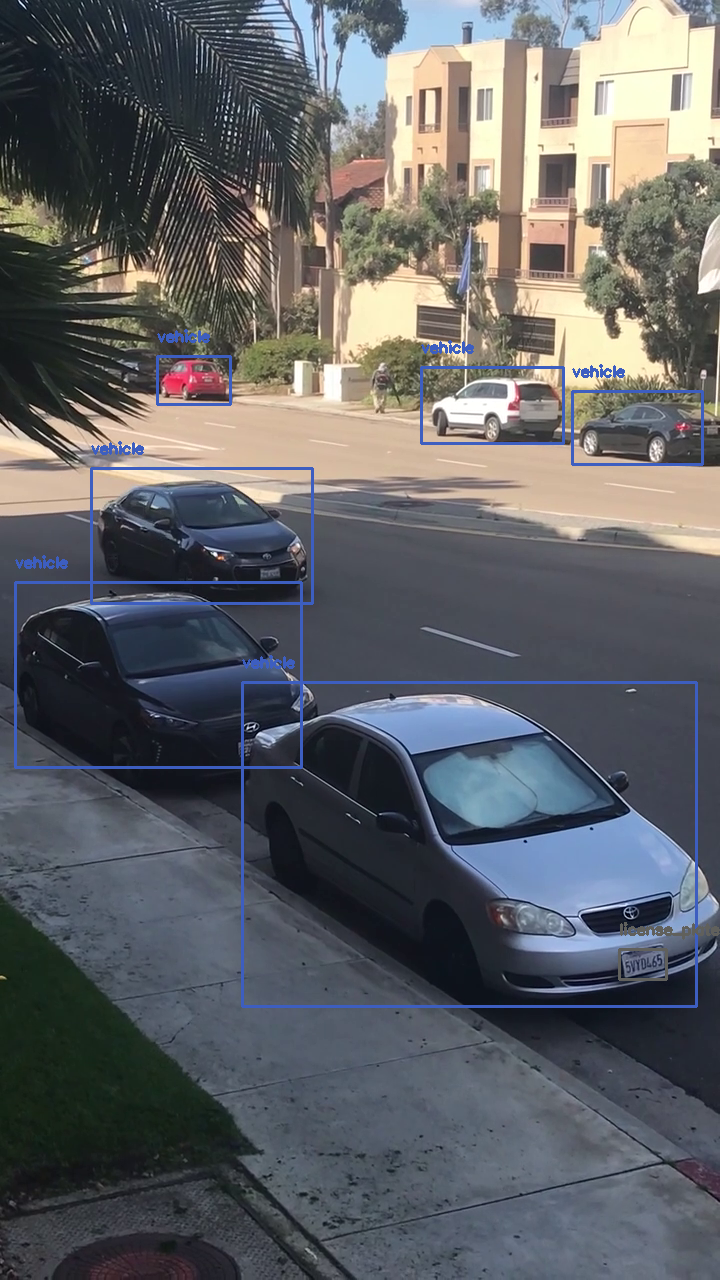license_plate: (619, 949, 666, 979)
vehicle: (242, 682, 696, 1006), (15, 582, 301, 767), (91, 468, 312, 603), (421, 367, 563, 443), (572, 391, 702, 464), (157, 356, 230, 404)
